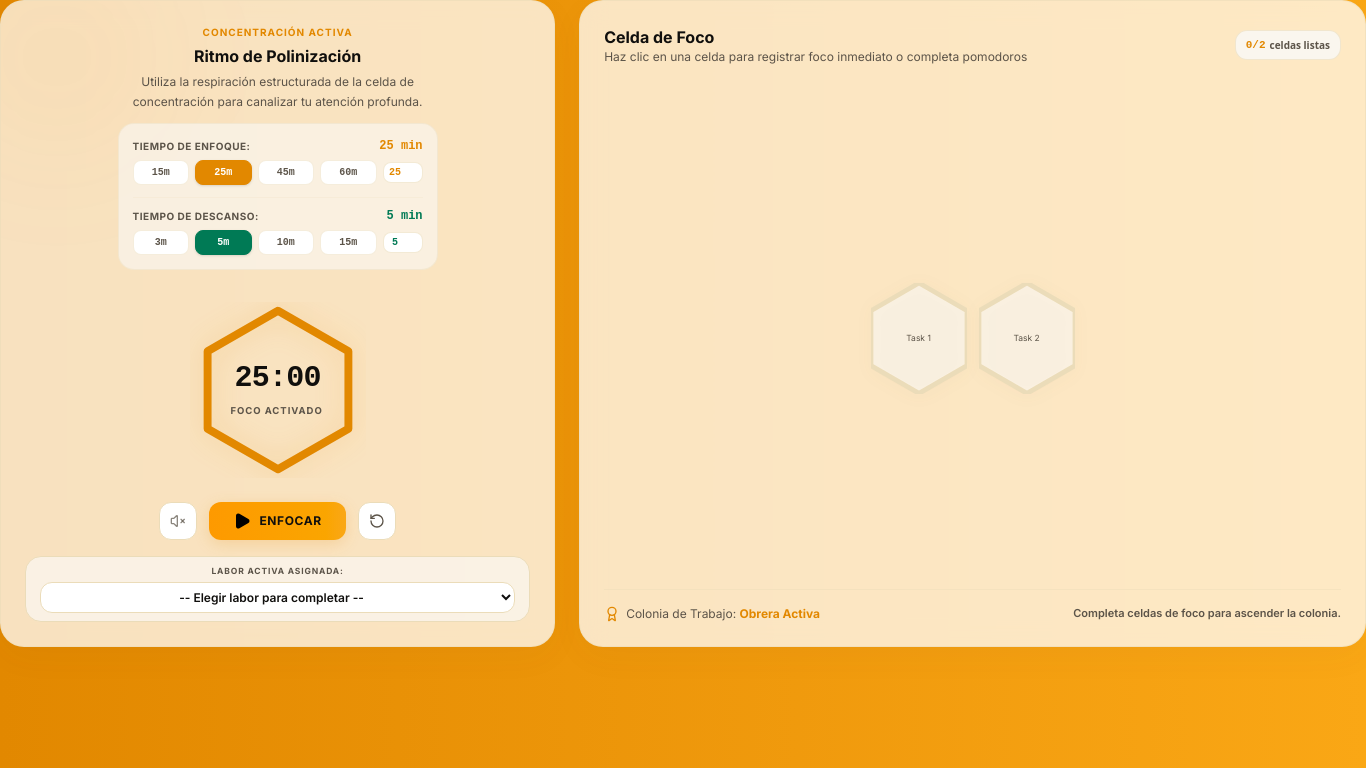
Scenario: FocusTimer › changes work duration when preset buttons clicked
Click the button "15m" below "Tiempo de Enfoque:": x=161, y=172 left=133, top=160, right=189, bottom=185
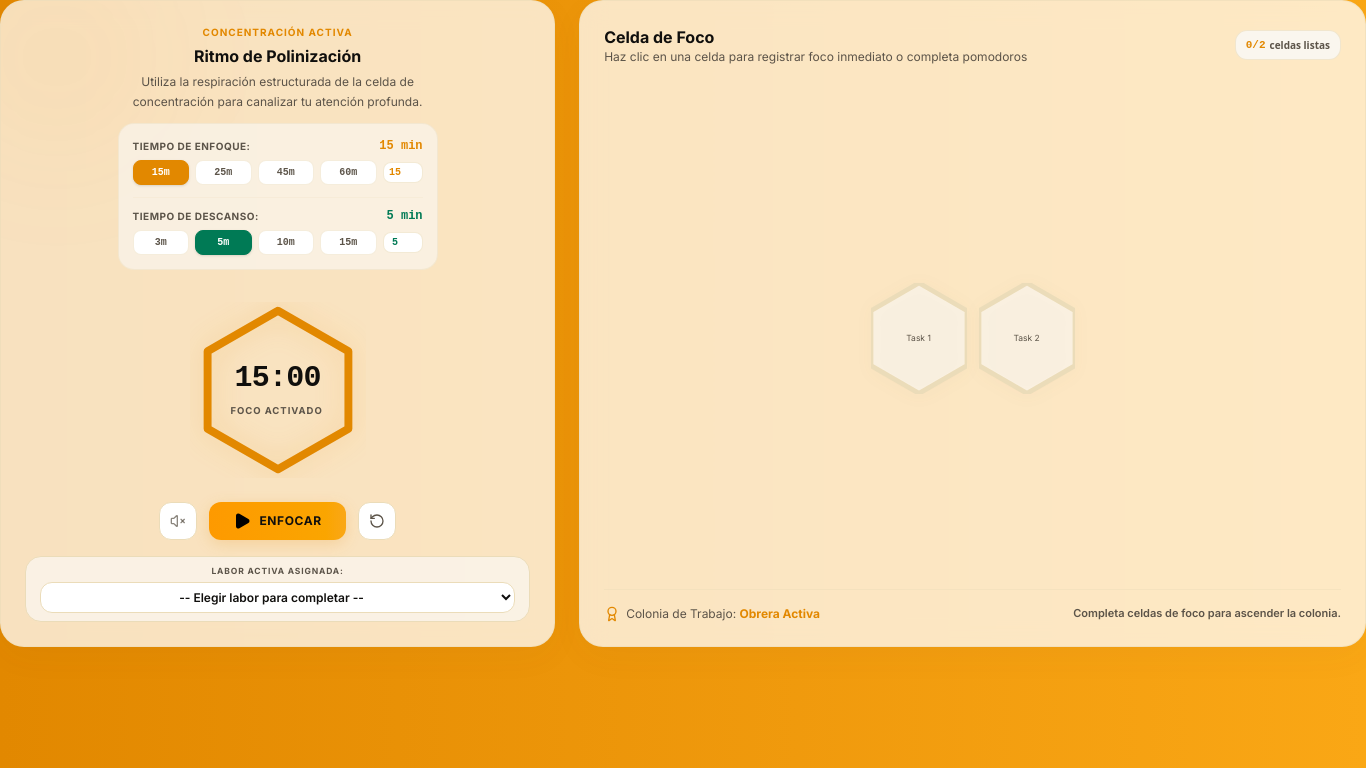
Expected: the text "15:00" is shown, left=230, top=360, right=325, bottom=396
Click the button "45m": x=286, y=172 left=258, top=160, right=314, bottom=185
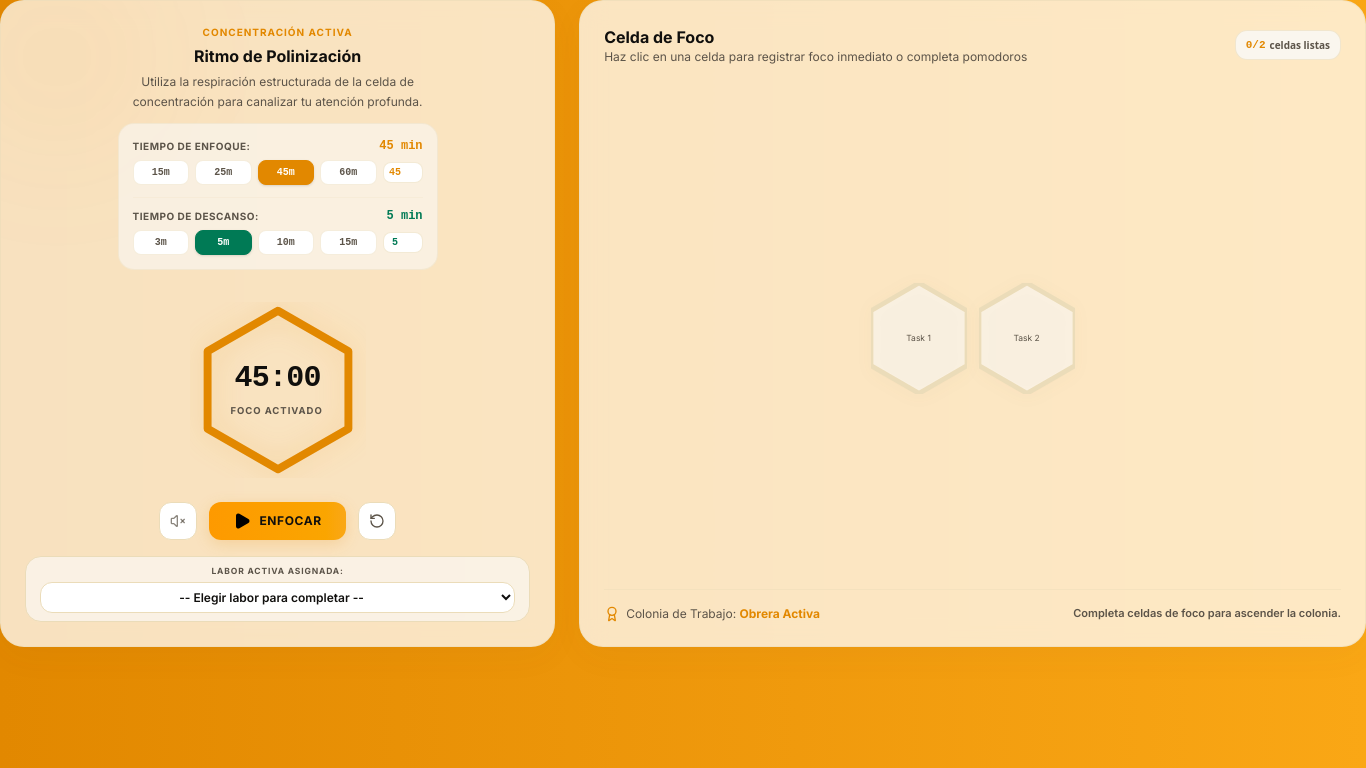
Expected: the text "45:00" is shown, left=230, top=360, right=325, bottom=396
